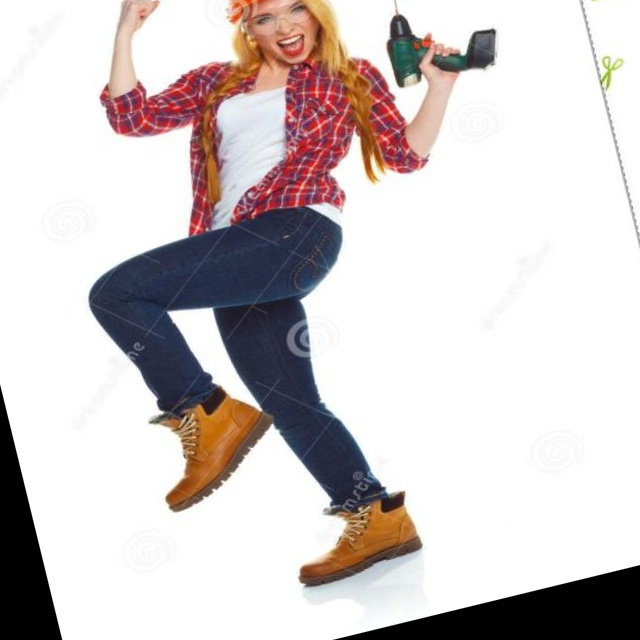Con_Casco: (215, 0, 339, 77)
